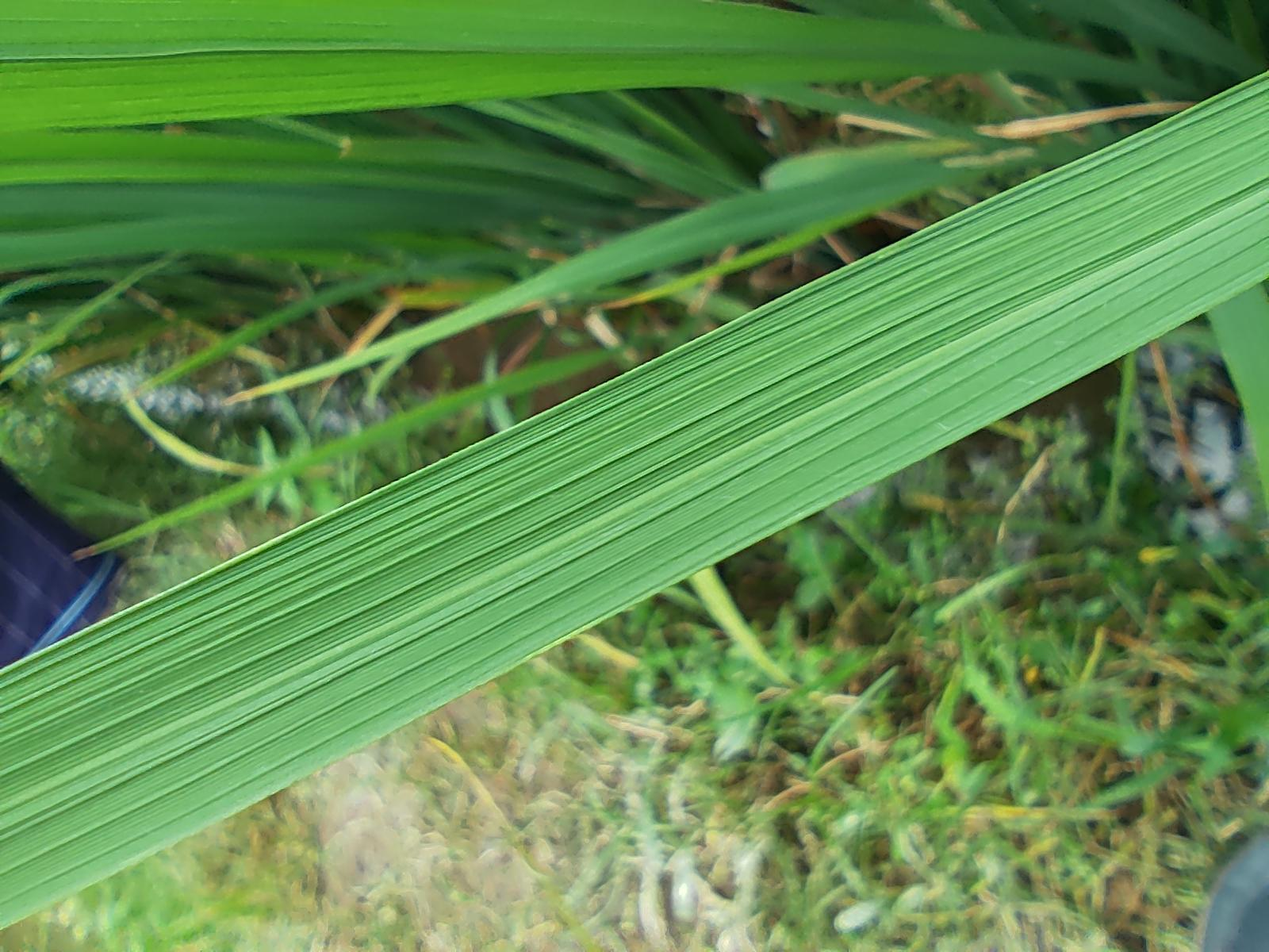Healthy: (40, 0, 1165, 951)
